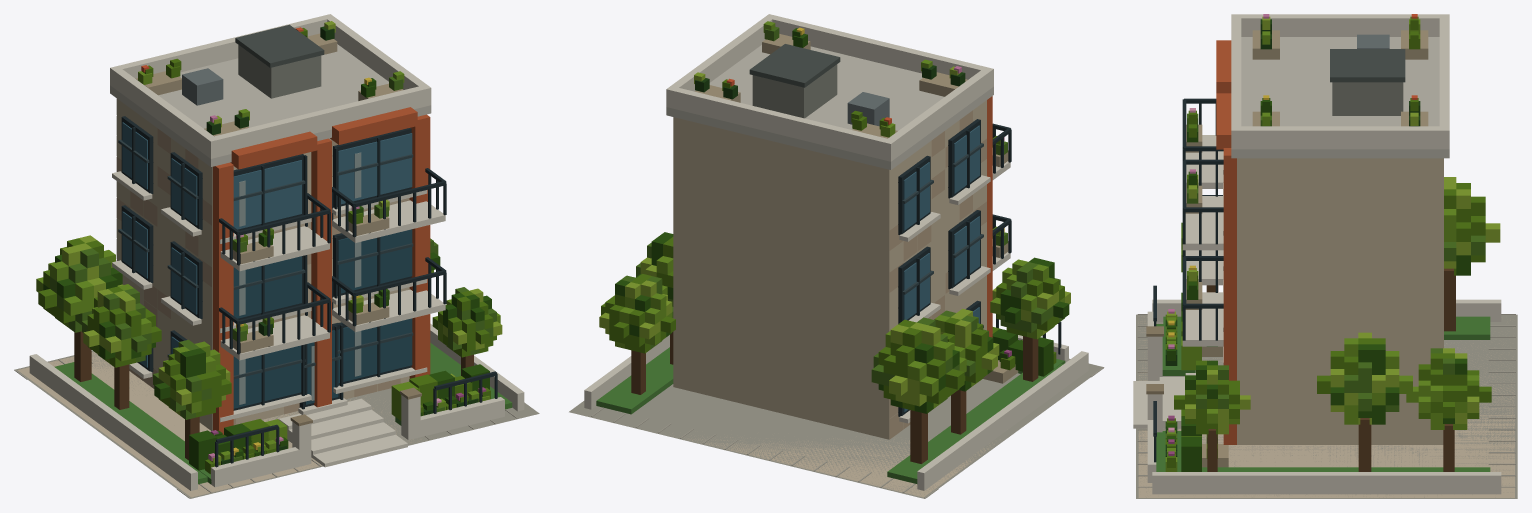
File: SM_Mapa_022.fbx
3 views of the same model, side by side, from view 1: azimuth 30°, elevation 25°; view 2: azimuth 150°, elevation 25°; view 3: azimuth 270°, elevation 25° (orthographic). The views are drawn at different scales.
Visible parts, largest first — view 1: SM_Mapa_022; view 2: SM_Mapa_022; view 3: SM_Mapa_022.
Part boxes in pixels (x1=…): SM_Mapa_022: x1=14, y1=14, x2=539, y2=498; SM_Mapa_022: x1=569, y1=14, x2=1104, y2=498; SM_Mapa_022: x1=1133, y1=14, x2=1517, y2=498.
Bounding box in the file's own units: 8 × 6.94 × 7.08.
